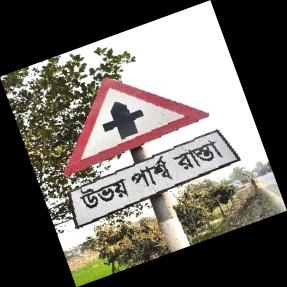Crossroad: (63, 77, 236, 217)
